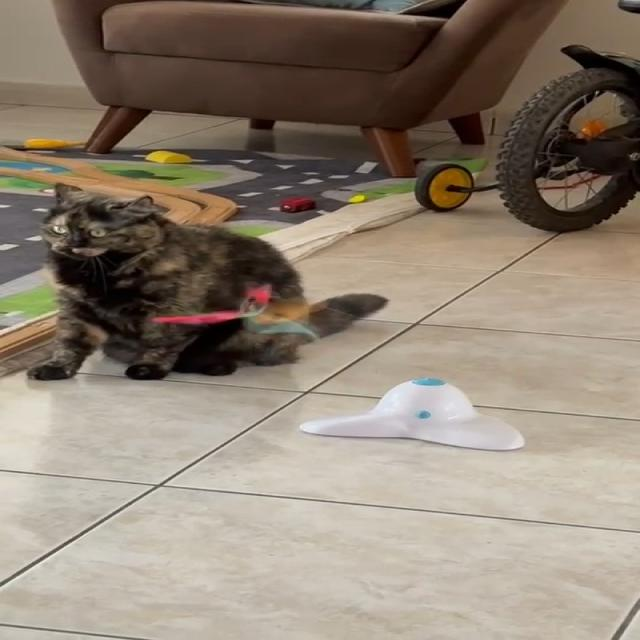authorized: (25, 182, 388, 381)
